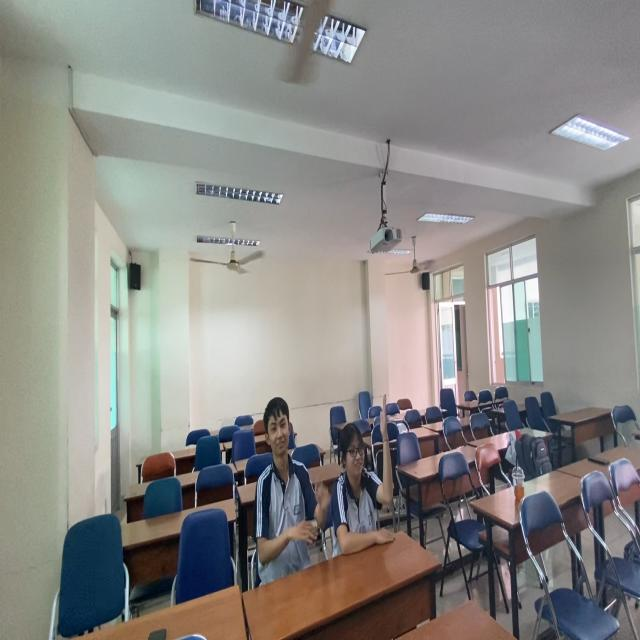raise_hand: (333, 388, 400, 552)
